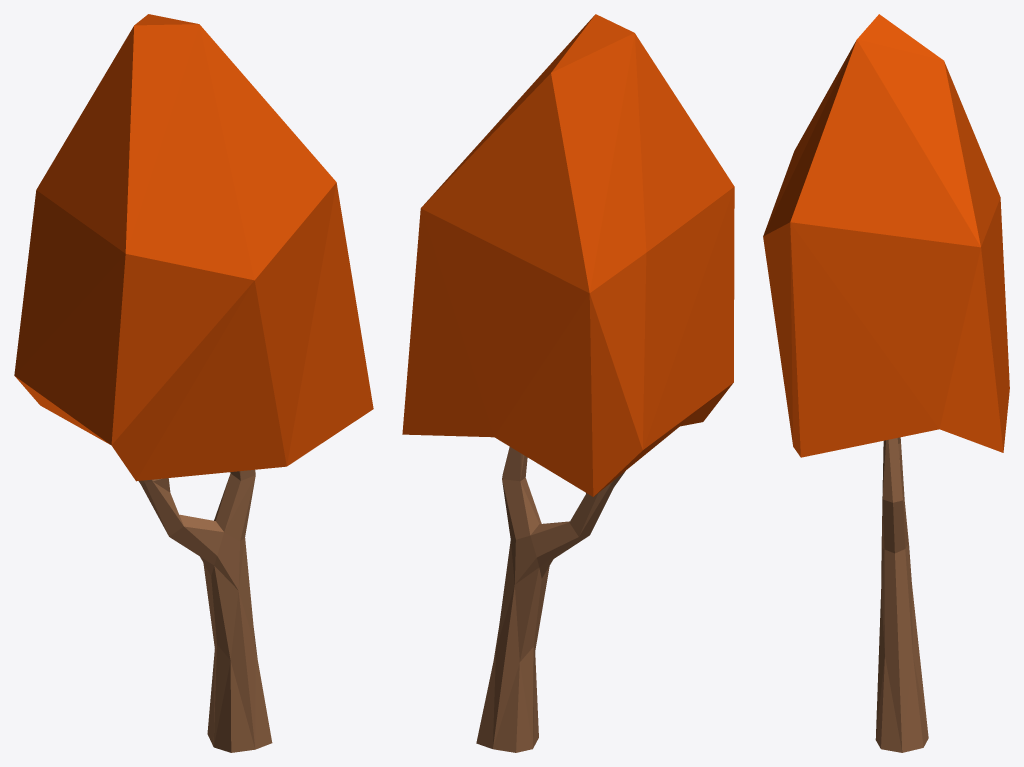
Rendered from tree-autumn-complete-7-011.glb.
The picture shows the model from 3 angles, left to right: view 1: azimuth 30°, elevation 25°; view 2: azimuth 150°, elevation 25°; view 3: azimuth 270°, elevation 25°; orthographic projection. The views are drawn at different scales.
Visible parts, largest first — view 1: TREE 7.003_403, TREE 7.002_404; view 2: TREE 7.003_403, TREE 7.002_404; view 3: TREE 7.003_403, TREE 7.002_404.
Part boxes in pixels (bbox=[...]): TREE 7.003_403: bbox=[14, 14, 373, 481]; TREE 7.002_404: bbox=[138, 469, 272, 752]; TREE 7.003_403: bbox=[402, 14, 734, 496]; TREE 7.002_404: bbox=[476, 447, 625, 752]; TREE 7.003_403: bbox=[763, 14, 1009, 457]; TREE 7.002_404: bbox=[875, 437, 928, 752].
Bounding box in the file's own units: 0.7087 × 1.95 × 0.6447.
